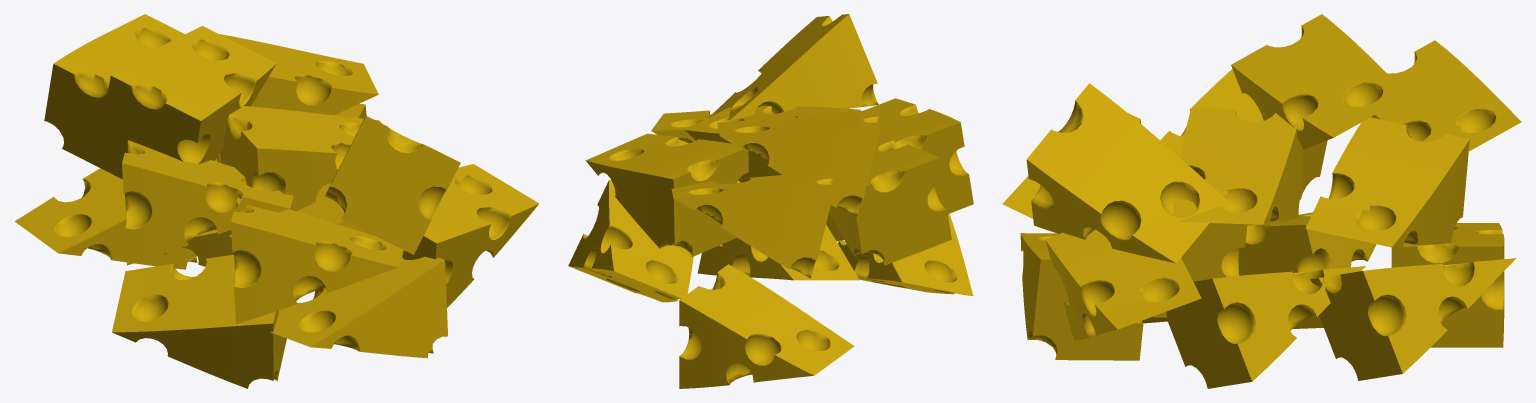
Rendered from cheese bin.fbx.
3 views of the same model, side by side, from view 1: azimuth 30°, elevation 25°; view 2: azimuth 150°, elevation 25°; view 3: azimuth 270°, elevation 25° (orthographic). The views are drawn at different scales.
Visible parts, largest first — view 1: Cube.002; view 2: Cube.002; view 3: Cube.002.
Part boxes in pixels (left/top/right/bottom): Cube.002: left=14, top=14, right=539, bottom=388; Cube.002: left=568, top=14, right=973, bottom=388; Cube.002: left=1002, top=14, right=1521, bottom=388.
Size of the model in its own units: 161 by 106 by 181.
